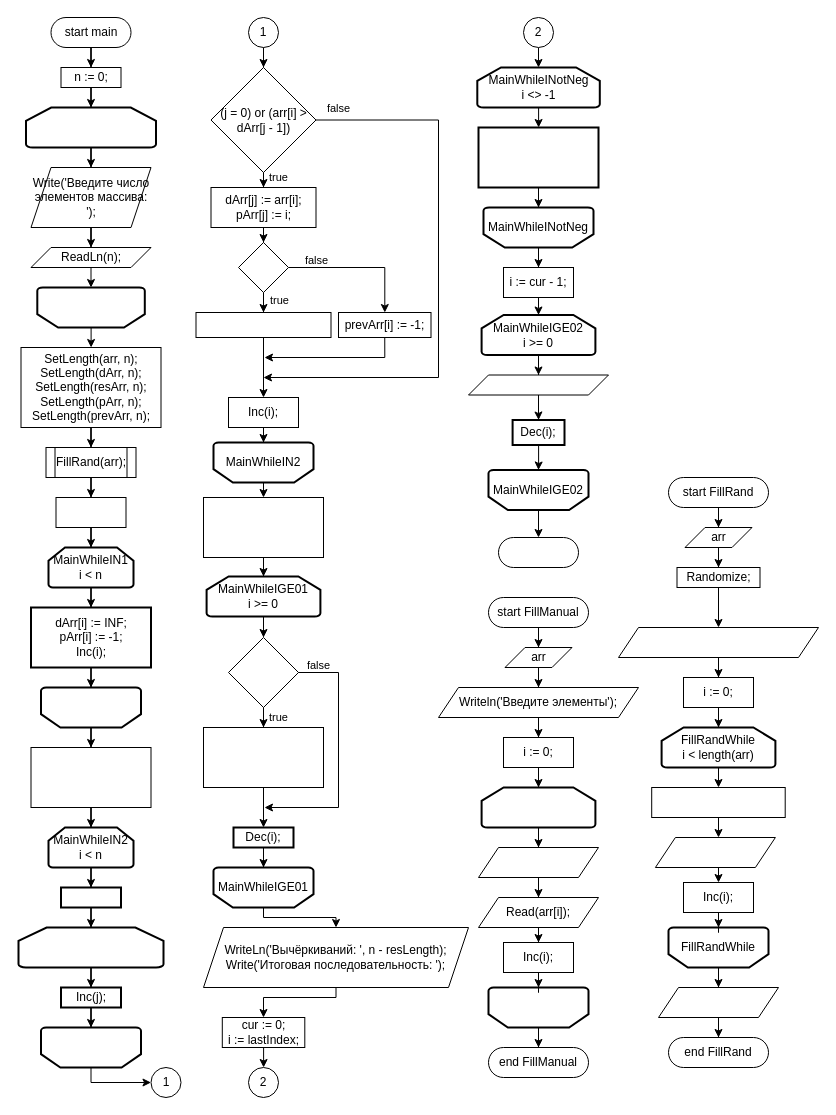
Some shapes in this 836 by 1115 pixel diagram are drawn without their labels. Here are the shapes that lost their labels. From the top down, the centre of each, then its label:
At (x=90, y=127): "MainWhileNLess1 n < 1".
At (x=538, y=157): "resArr[cur] := arr[i]; cur := cur + 1; i := prevArr[i];".
At (x=263, y=267): "j > 0".
At (x=90, y=307): "MainWhileNLess1".
At (x=263, y=325): "prevArr[i] := pArr[j - 1]".
At (x=538, y=384): "Write(resArr[i], ' ');".
At (x=90, y=512): "i := 1;".
At (x=263, y=527): "resLength := 0; lastIndex := 0; i := n - 1;".
At (x=538, y=552): "end main".
At (x=718, y=642): "Write('Полученный массив: ');".
At (x=263, y=672): "(dArr[i] <> INF)".
At (x=91, y=707): "MainWhileIN1".
At (x=90, y=777): "dArr[0] := arr[0]; pArr[0] := 0; prevArr[0] := -1; i := 1;".
At (x=263, y=757): "resLength := i + 1; lastIndex := pArr[i]; i := 0;".
At (x=538, y=807): "FillManualWhile i < length(arr)".
At (x=718, y=802): "arr[i] := random(100);".
At (x=538, y=862): "Write(i + 1, ': ');".
At (x=714, y=852): "Write(arr[i], ' ');".
At (x=91, y=897): "j := 0;".
At (x=90, y=947): "MainWhileJ (j < n) and (arr[i] > dArr[j])".
At (x=538, y=1007): "FillManualWhile".
At (x=718, y=1002): "Writeln;".
At (x=91, y=1047): "MainWhileJ".
